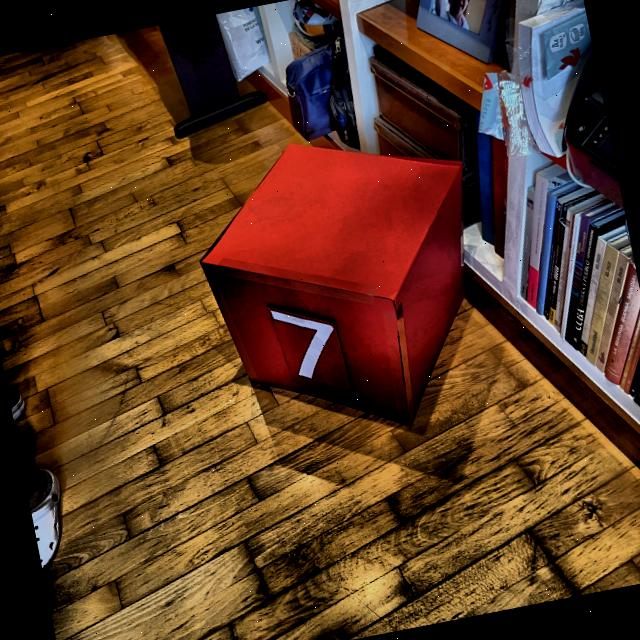red box: (182, 112, 506, 462)
seven: (266, 294, 348, 388)
